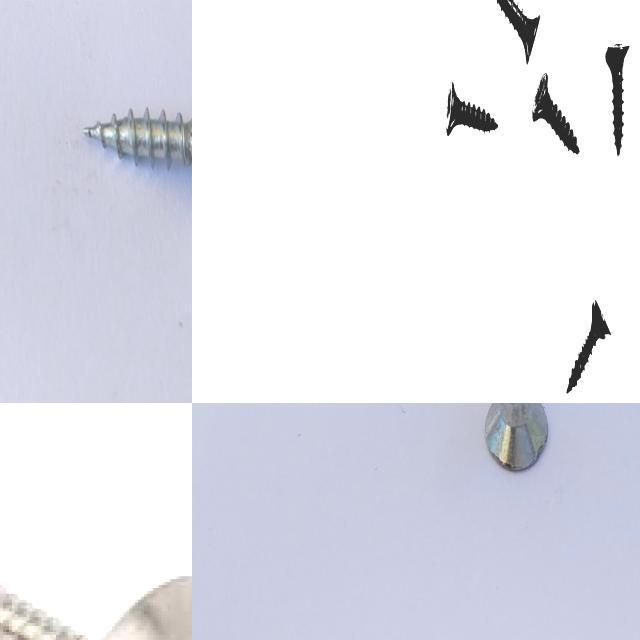Screw: (84, 107, 192, 169), (485, 403, 548, 470), (568, 300, 611, 394), (533, 72, 580, 153), (446, 81, 498, 135), (497, 0, 540, 63), (606, 42, 630, 154)
